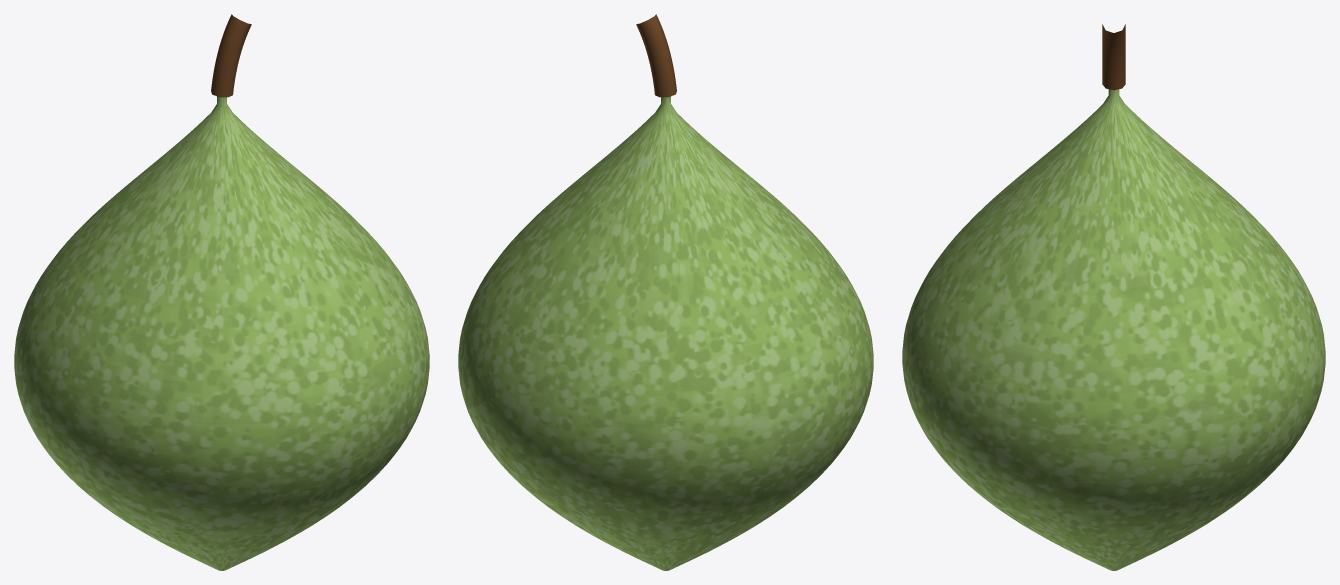
The model's file is cherimoya.glb.
3 renders of one model, left to right at view 1: azimuth 30°, elevation 25°; view 2: azimuth 150°, elevation 25°; view 3: azimuth 270°, elevation 25°, orthographic.
Size of the model in its own units: 0.1164 by 0.17 by 0.1164.
Materials: 2 (1 with a texture image).
